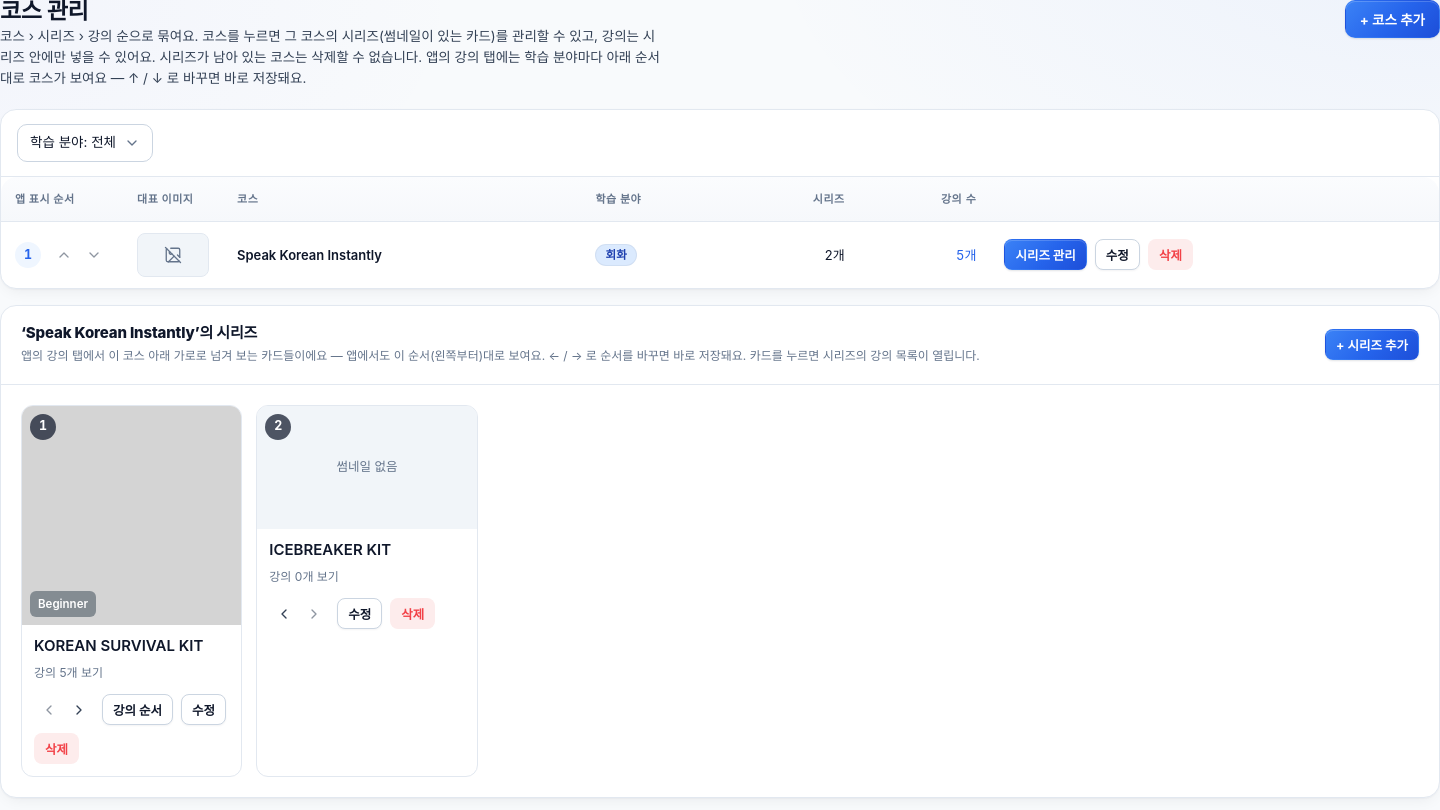
Scenario: CoursesPage series › will not delete a series that still has lessons
This screenshot has width=1440, height=810.
Check: the text "KOREAN SURVIVAL KIT" is shown, box [34, 635, 203, 657]
Step 1. Click the button "삭제" below "Beginner" → (56, 749), box [34, 733, 79, 764]
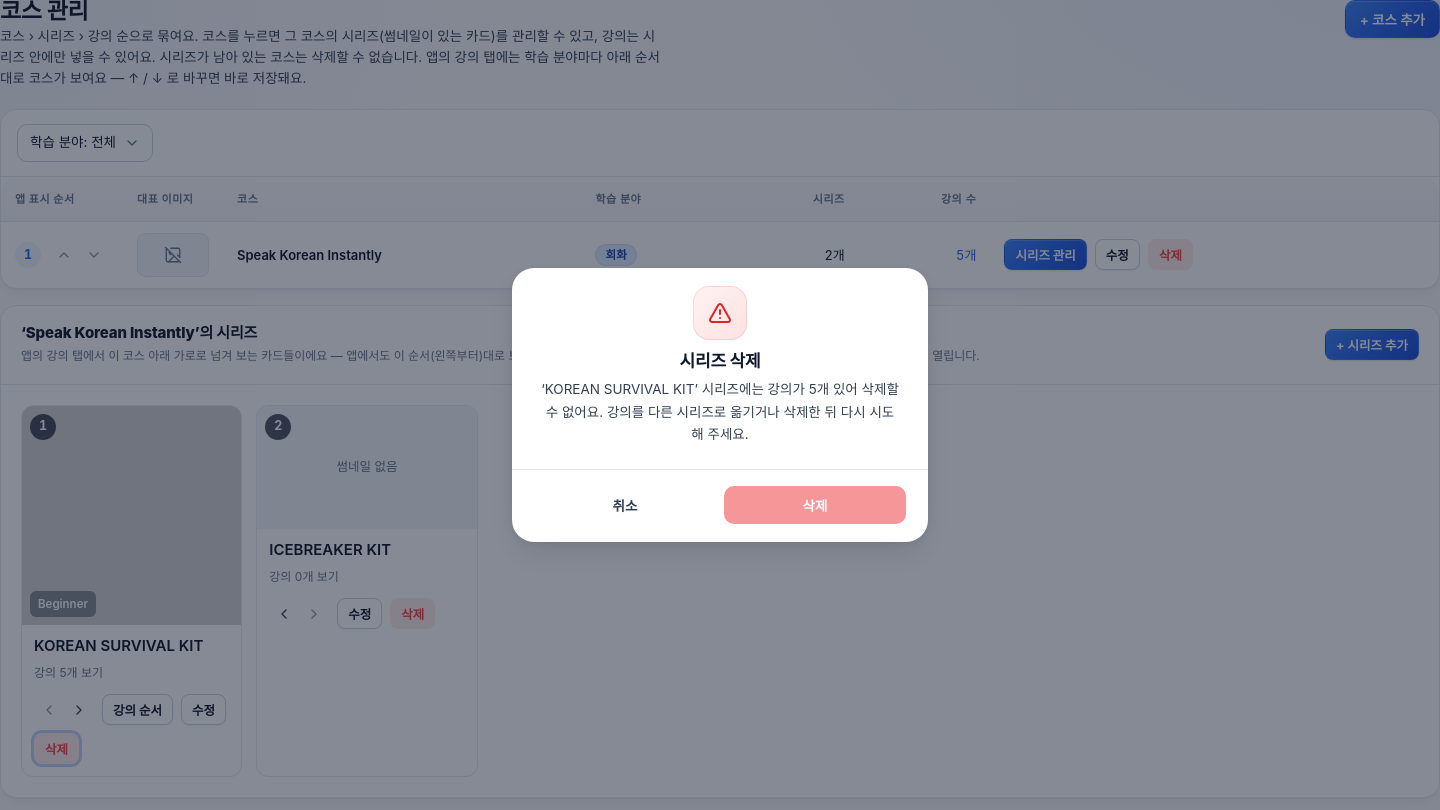
Check: the text "강의가 5개 있어 삭제할 수 없어요" is shown, box [541, 381, 899, 442]
Check: the button "삭제" is disabled, box [724, 486, 906, 524]
